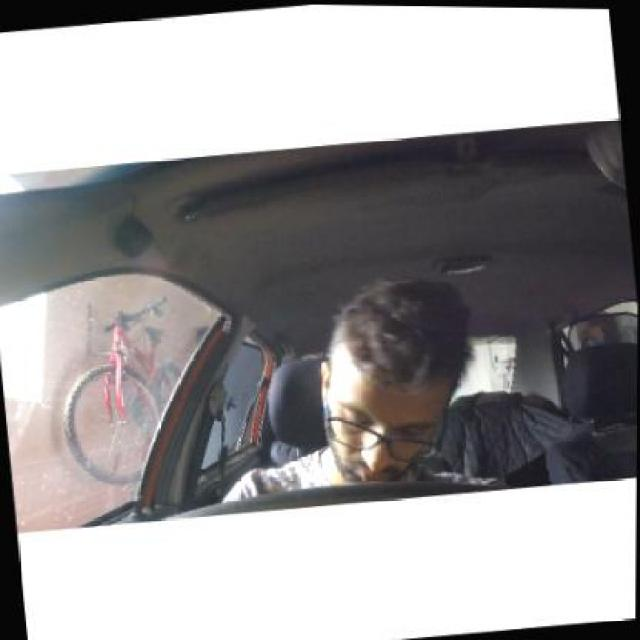drowsy: (318, 273, 464, 477)
